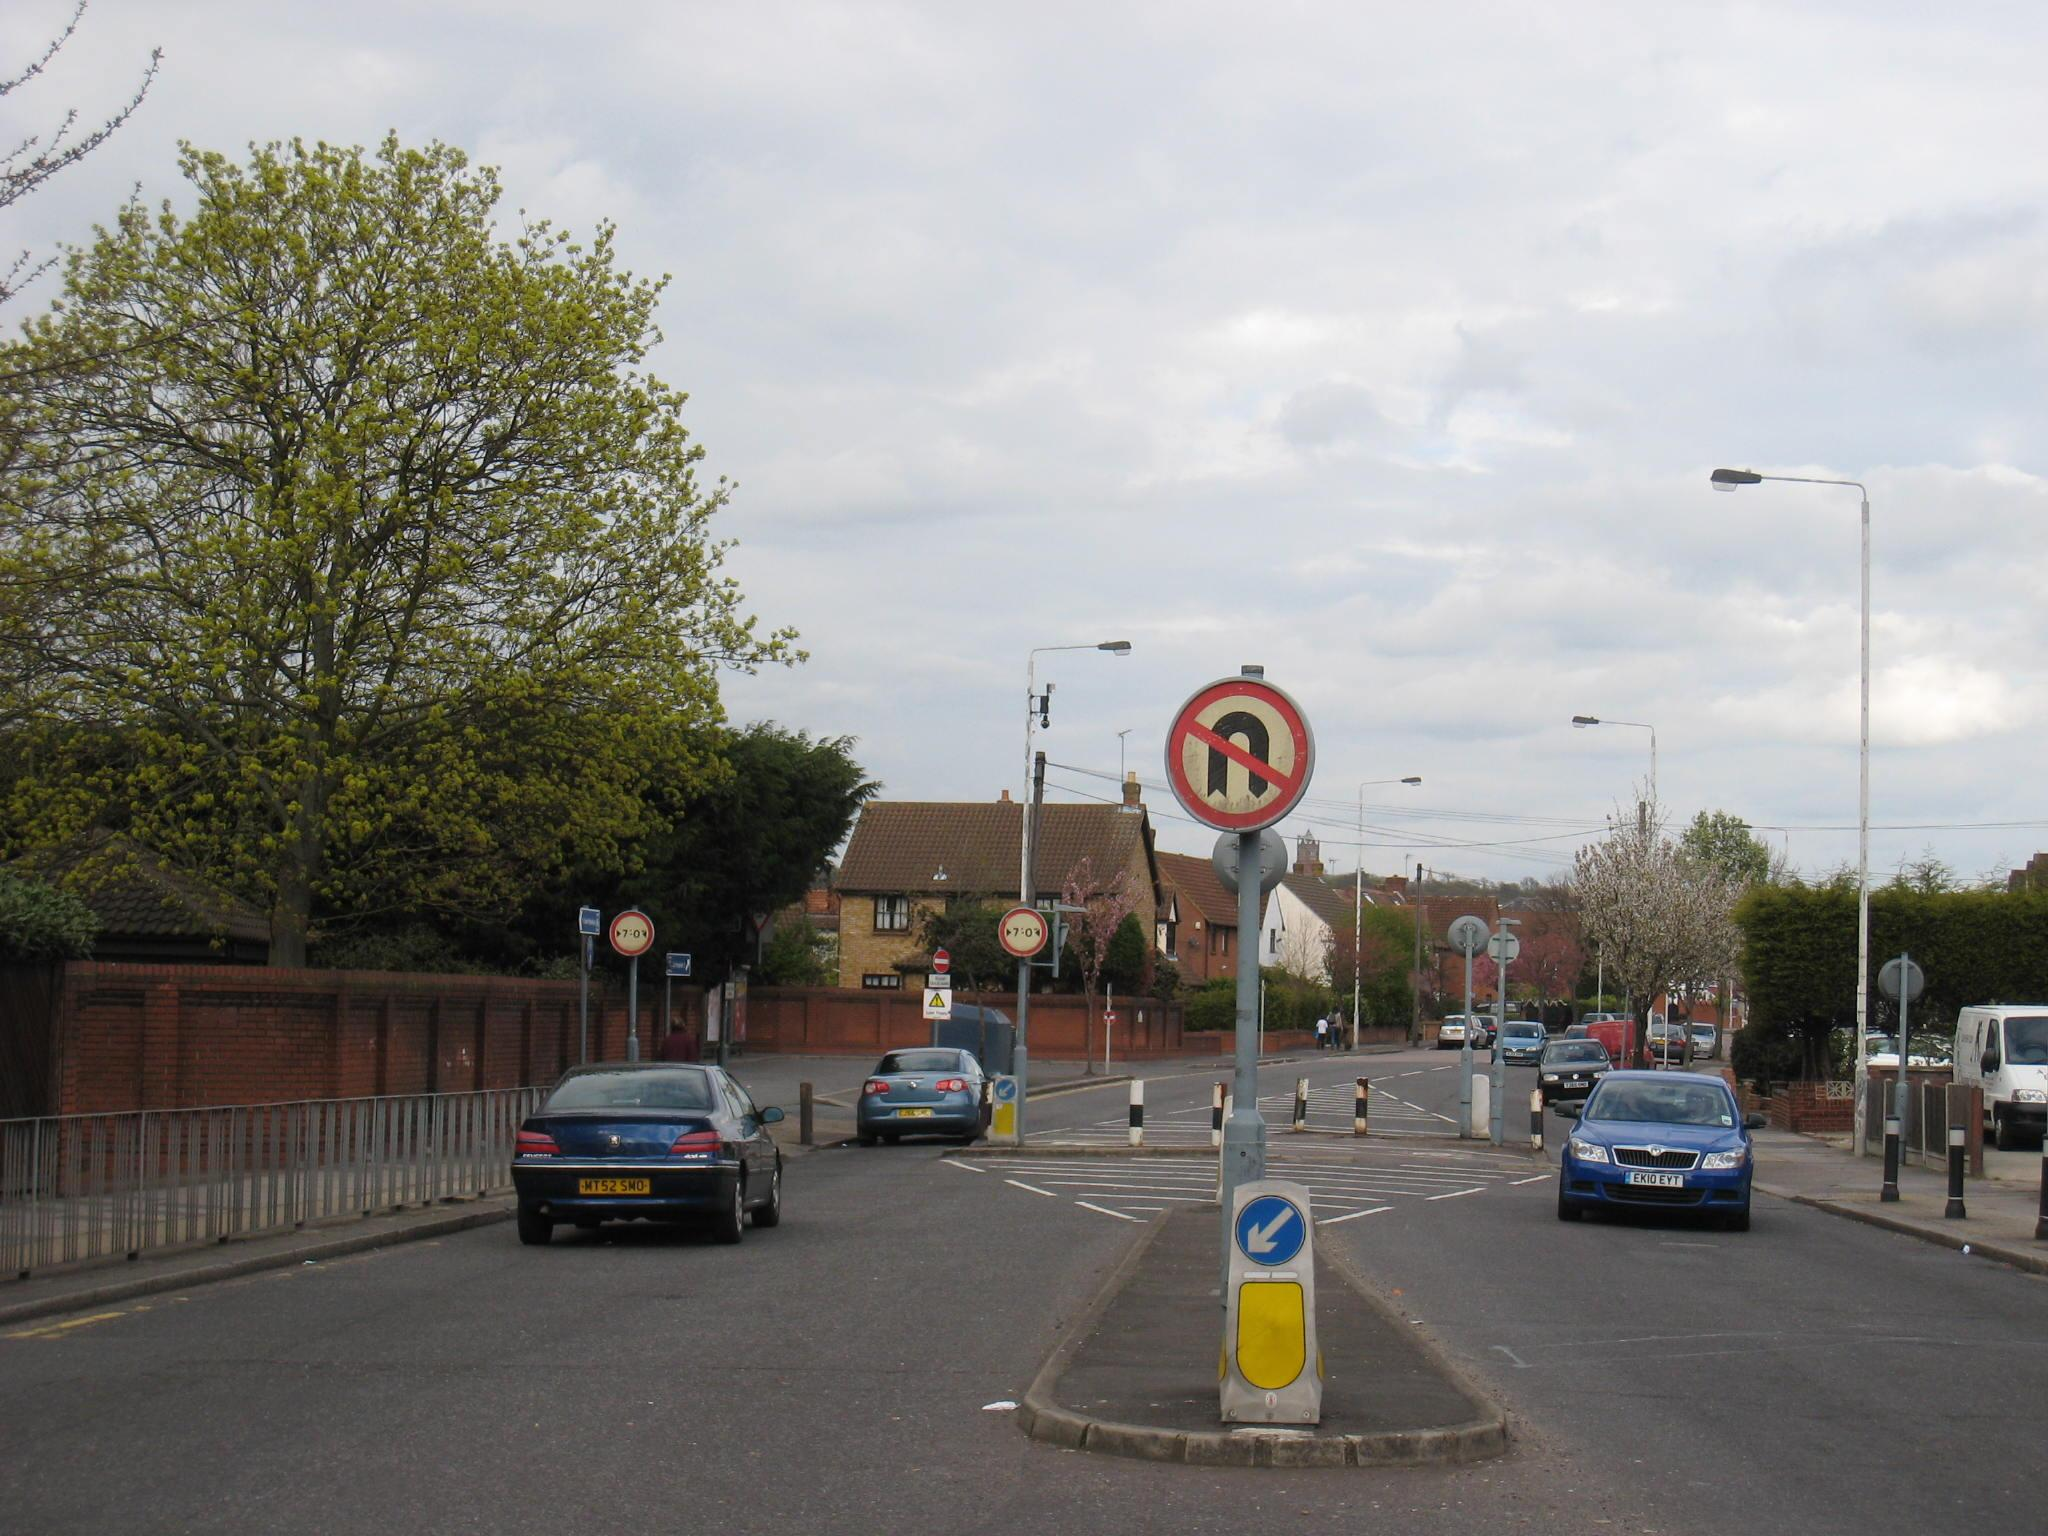no_u_turn: (1163, 678, 1313, 831)
